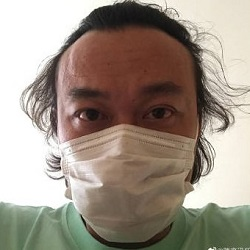mask: (46, 117, 201, 244)
